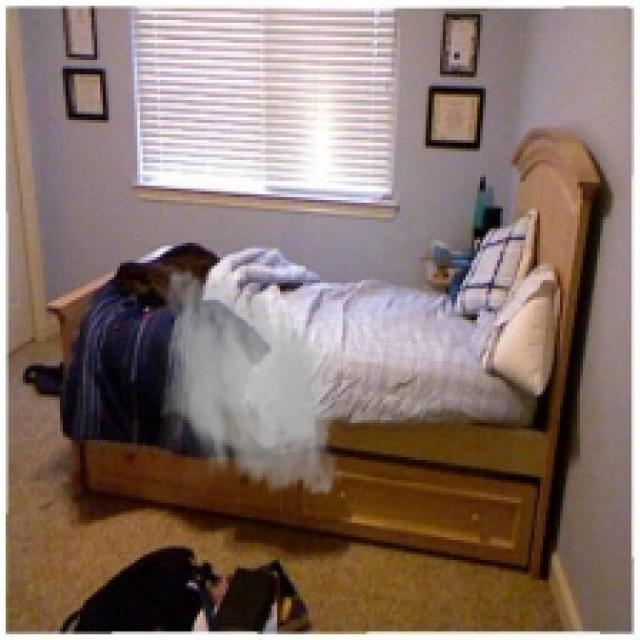smoke: (146, 260, 351, 506)
